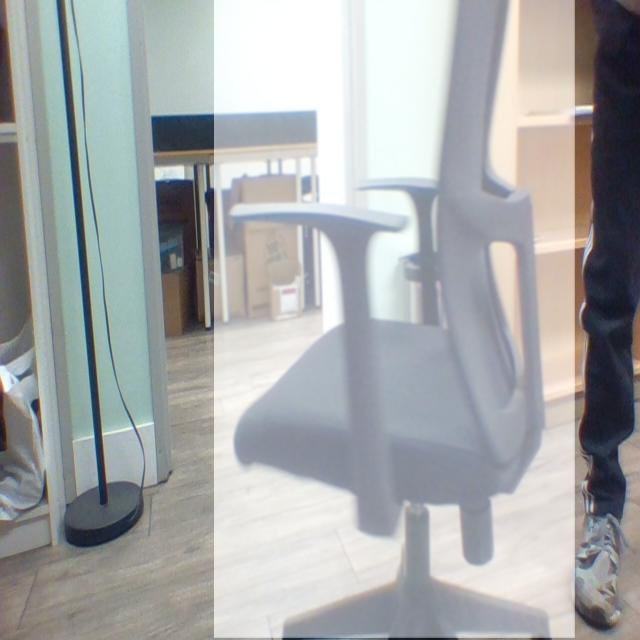black-chair: (214, 0, 576, 639)
